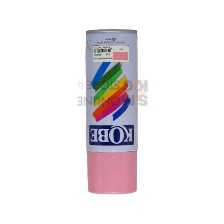aerosol_cans: (82, 27, 143, 198)
